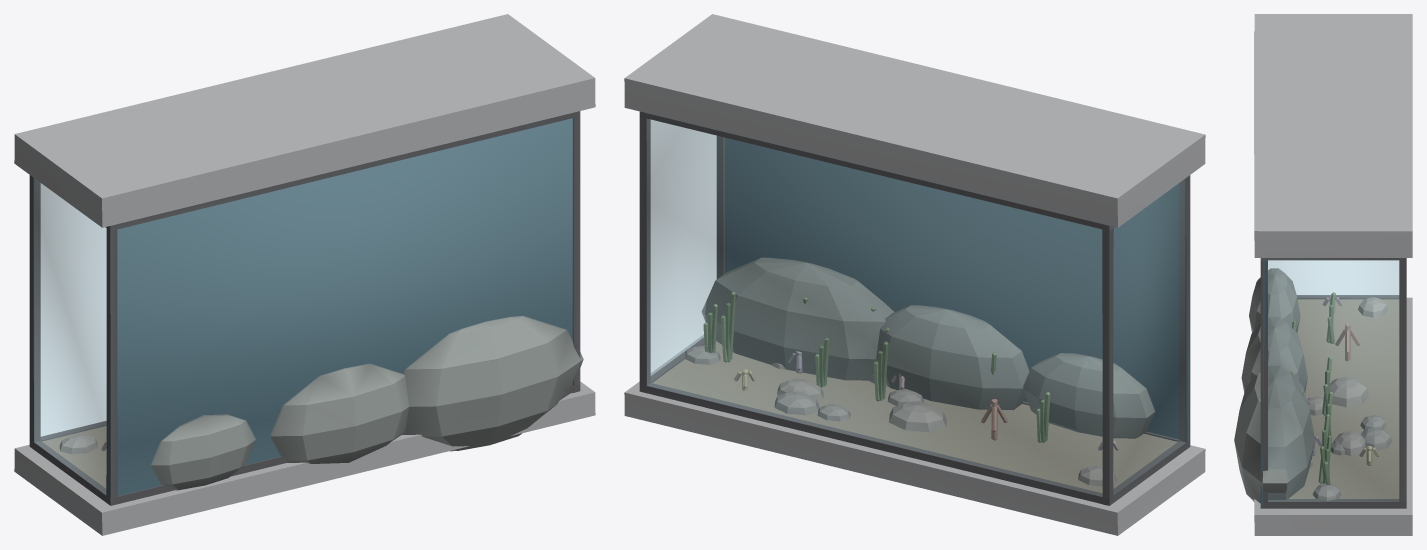
Rendered from furn_aquarium_wall__stone_low.glb.
The picture shows the model from 3 angles, left to right: view 1: azimuth 30°, elevation 25°; view 2: azimuth 150°, elevation 25°; view 3: azimuth 270°, elevation 25°; orthographic projection. The views are drawn at different scales.
Bounding box in the file's own units: 4.19 × 2.85 × 1.46.
